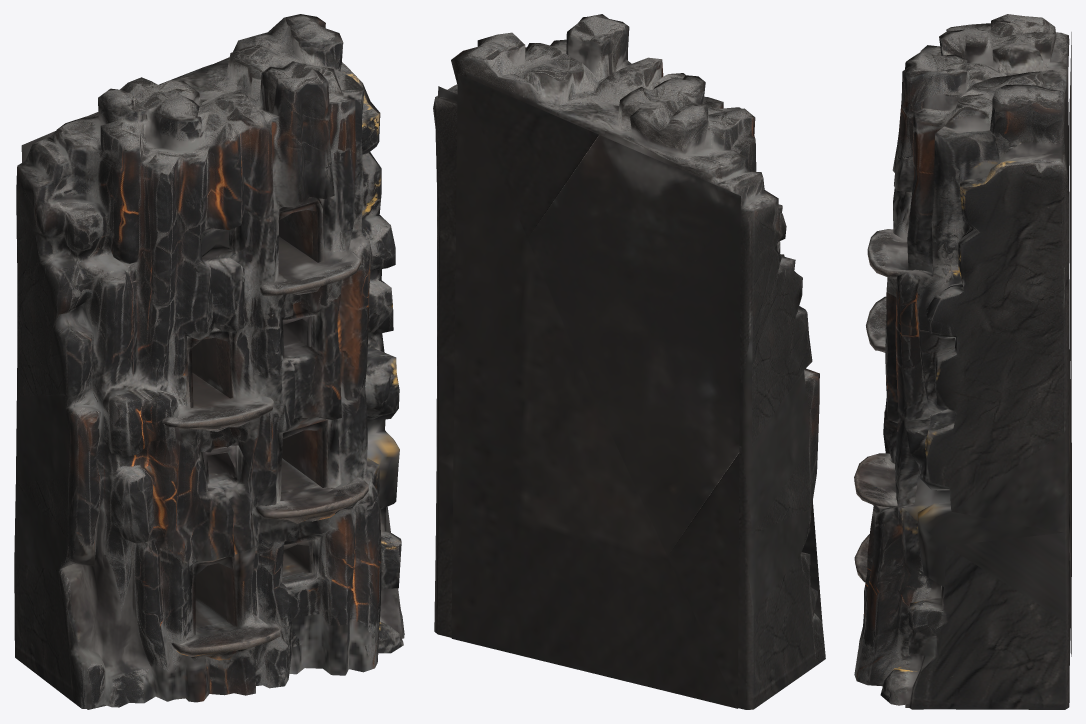
Rendered from goblin-basalt-cliff-facade-tall.glb.
The picture shows the model from 3 angles, left to right: view 1: azimuth 30°, elevation 25°; view 2: azimuth 150°, elevation 25°; view 3: azimuth 270°, elevation 25°; orthographic projection. The views are drawn at different scales.
Bounding box in the file's own units: 0.5815 × 1 × 0.3294.
1 material, 1 textured.
